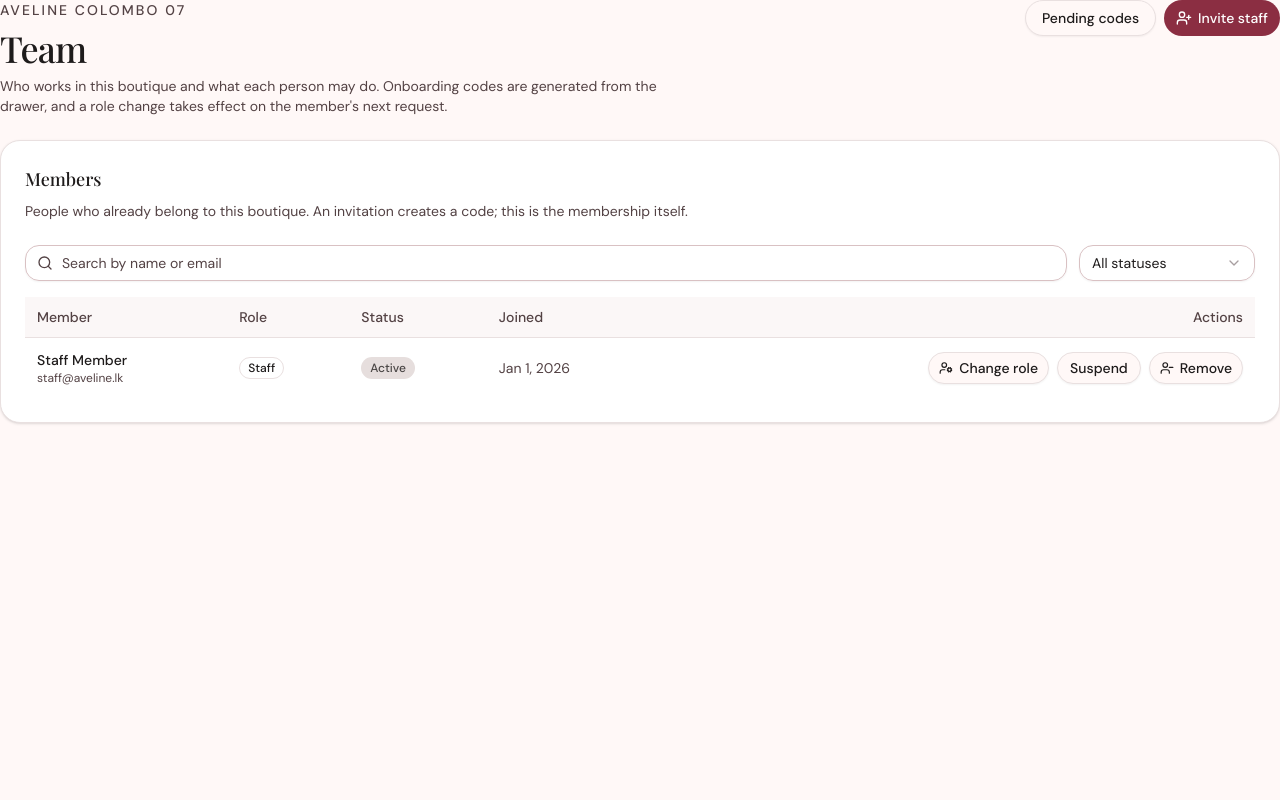
Test: TeamManagement › opens code generation in a side drawer, not by navigating away
The width and height of the screenshot is (1280, 800).
Expected: the text "Staff Member" is shown, [37,350,127,368]
Step 1. Click the button "Invite staff" → point(1222, 18), box [1164,0,1279,36]
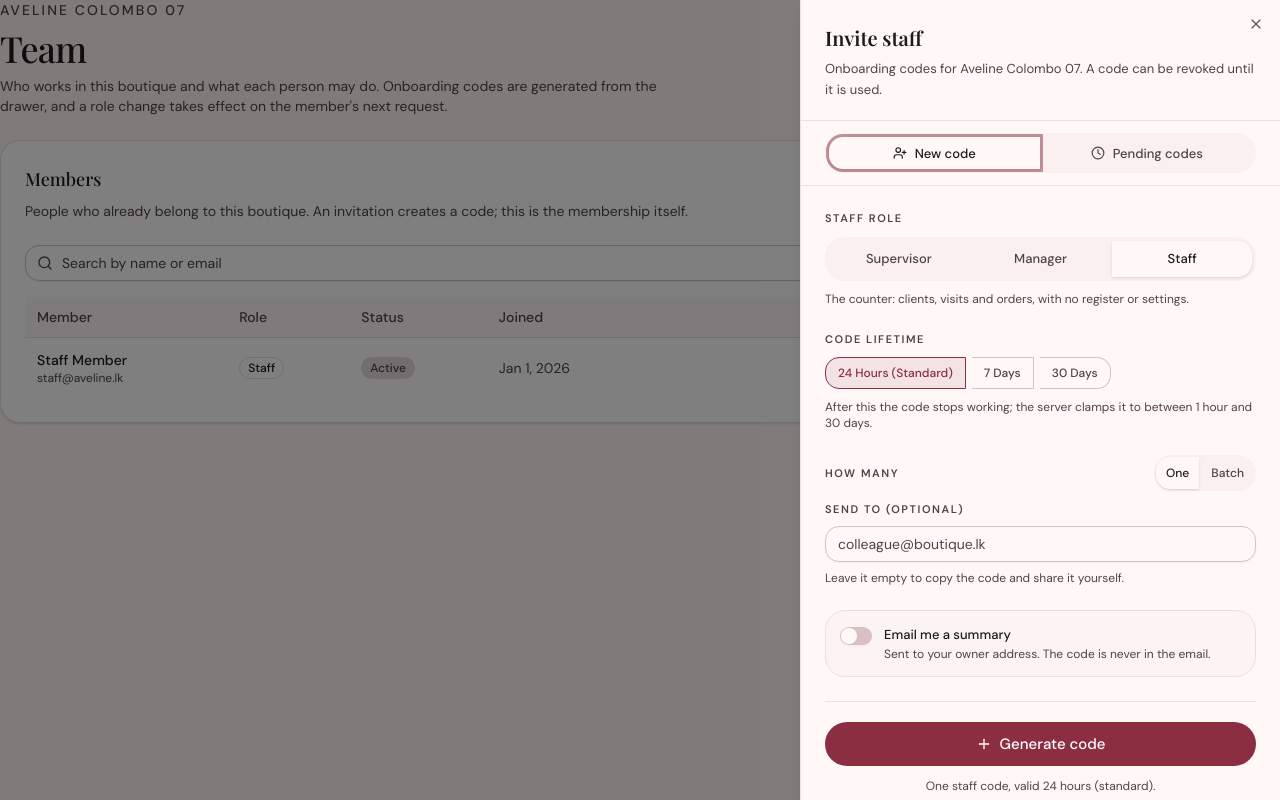
Result: the button "Generate code" is shown at [825,722,1256,766]
